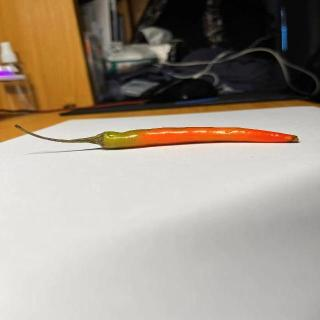Cabai Merah: (14, 124, 300, 150)
